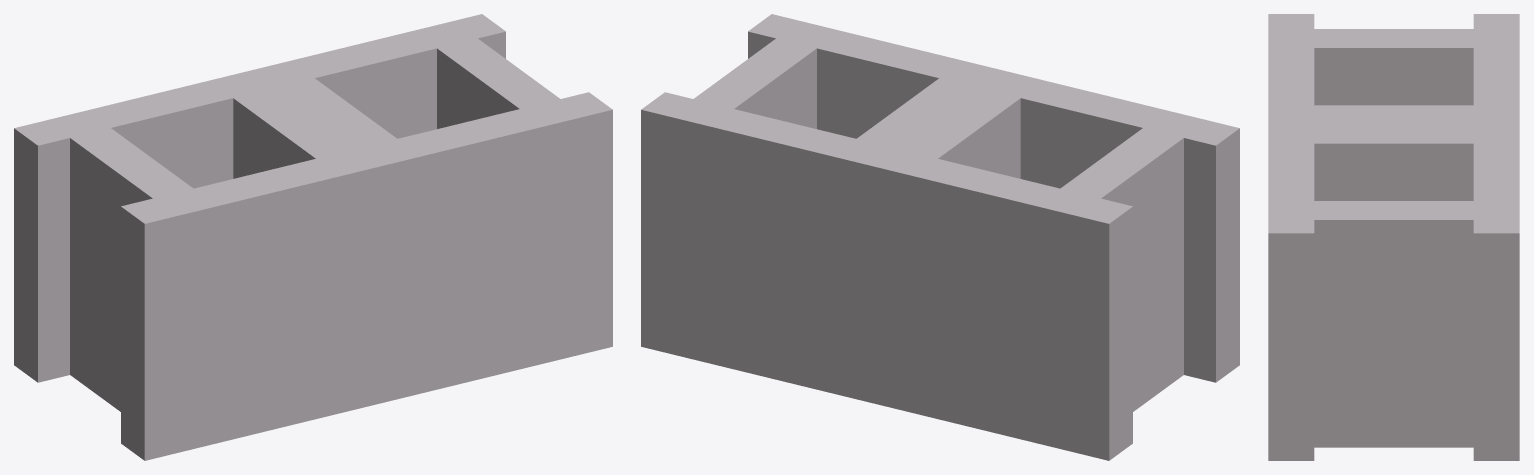
The model's file is Concrete_Block_02.fbx.
3 renders of one model, left to right at view 1: azimuth 30°, elevation 25°; view 2: azimuth 150°, elevation 25°; view 3: azimuth 270°, elevation 25°, orthographic. The views are drawn at different scales.
Visible parts, largest first — view 1: Concrete_Block_02; view 2: Concrete_Block_02; view 3: Concrete_Block_02.
Boxes of the visible parts, x1,y1,x2,y2 form: Concrete_Block_02: (14,14,612,460); Concrete_Block_02: (641,14,1239,460); Concrete_Block_02: (1268,14,1519,460).
Bounding box in the file's own units: 49.6 × 24 × 24.
